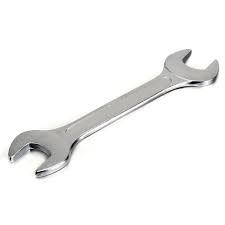wrench: (6, 47, 219, 179)
